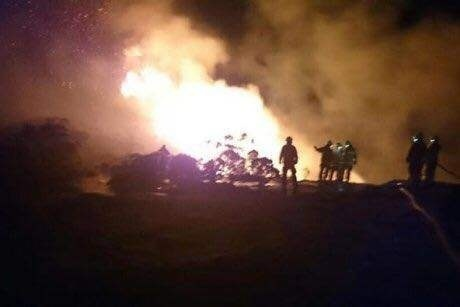fire: (119, 45, 306, 182)
